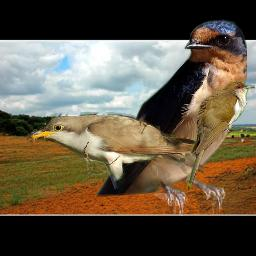Cuckoo: (27, 112, 204, 196), (187, 79, 255, 193)
Swallow: (95, 19, 247, 216)
